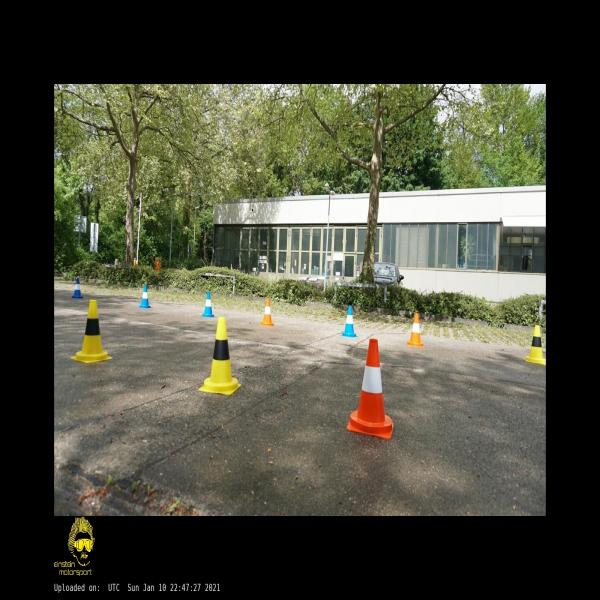blue_cone: (340, 305, 357, 336), (201, 291, 214, 317), (138, 285, 151, 308), (70, 278, 83, 299)
orange_cone: (346, 338, 394, 440), (407, 313, 423, 346), (260, 298, 274, 326)
yellow_cone: (198, 317, 241, 395), (69, 299, 113, 364), (70, 300, 112, 364), (524, 325, 546, 365)
